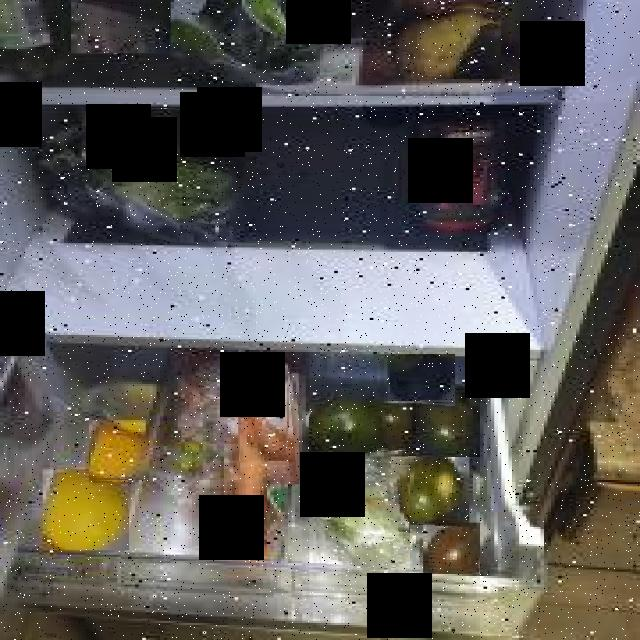bread: (71, 0, 170, 53)
carrot: (224, 443, 267, 558), (240, 365, 290, 461), (270, 374, 299, 484), (185, 377, 206, 419)
lemon: (44, 470, 130, 550), (89, 420, 146, 480)
pear: (391, 0, 501, 79)
salad: (107, 106, 245, 242), (308, 456, 410, 568)
tomato: (391, 456, 469, 525), (416, 386, 480, 457), (310, 396, 374, 460), (388, 354, 455, 403), (423, 523, 480, 574), (370, 396, 412, 451)
